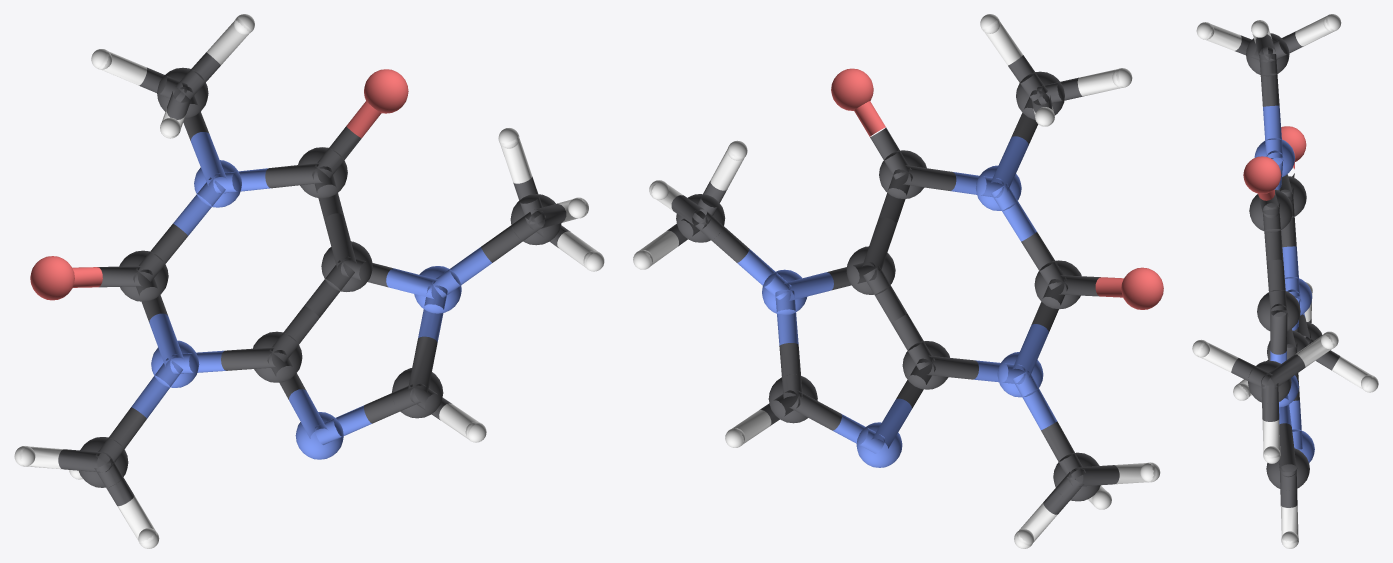
Rendered from caffeine2-fixed-normals.glb.
3 renders of one model, left to right at view 1: azimuth 30°, elevation 25°; view 2: azimuth 150°, elevation 25°; view 3: azimuth 270°, elevation 25°, orthographic. The views are drawn at different scales.
Parts seen in each view (by area): view 1: caffeine; view 2: caffeine; view 3: caffeine.
Part boxes in pixels (x1,y1,x2,y2): caffeine: [14, 14, 604, 548]; caffeine: [633, 14, 1163, 548]; caffeine: [1192, 14, 1378, 548].
Size of the model in its own units: 7.74 by 6.52 by 2.59.
